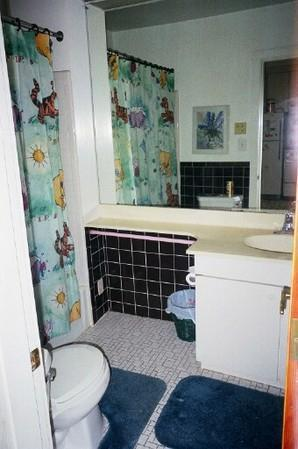Armario: (196, 252, 295, 396)
Bote de Basura: (166, 286, 197, 342)
Lavamanos: (244, 212, 296, 256)
Sanitario: (43, 333, 116, 447)
